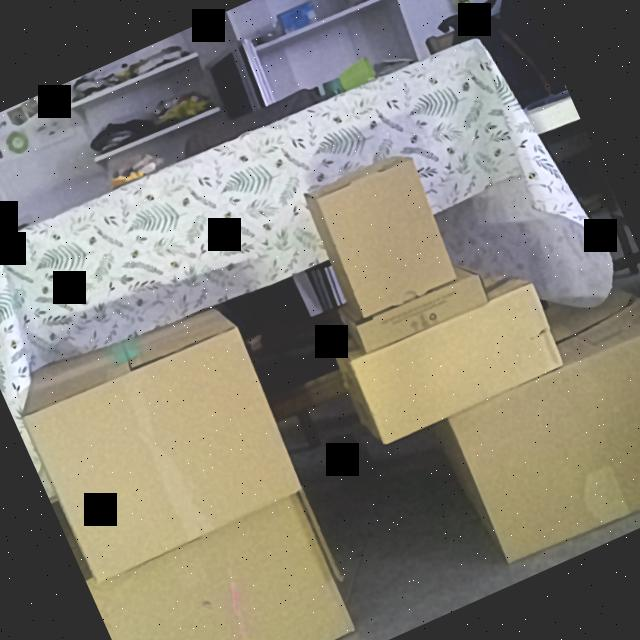box: (22, 323, 304, 582), (444, 320, 640, 564), (87, 492, 355, 640), (348, 282, 564, 443), (312, 158, 460, 320), (353, 271, 490, 356)
